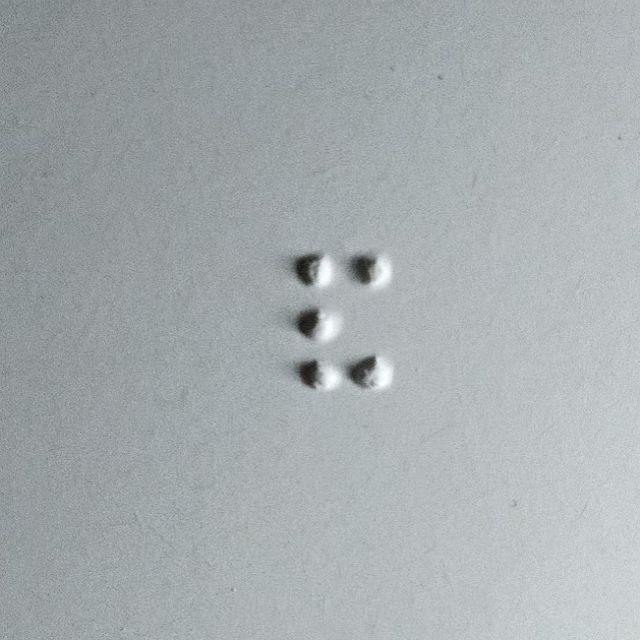ay: (295, 254, 391, 389)
